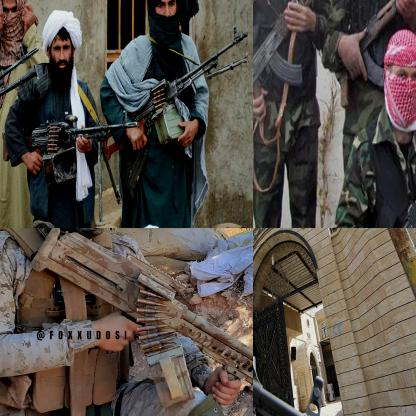rifle: (34, 228, 252, 415), (103, 22, 250, 161), (253, 260, 344, 415), (253, 0, 338, 117), (0, 107, 144, 172), (336, 0, 415, 110), (0, 44, 43, 196), (389, 114, 415, 227)
